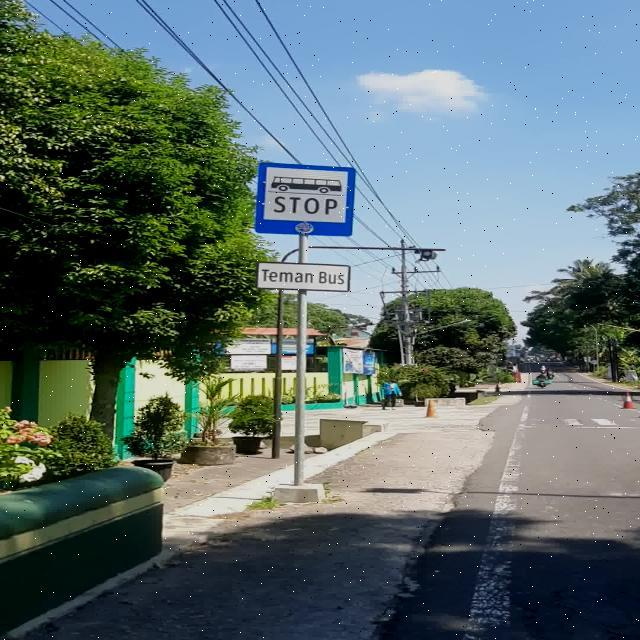Pemberhentian Bus: (254, 161, 356, 237)
